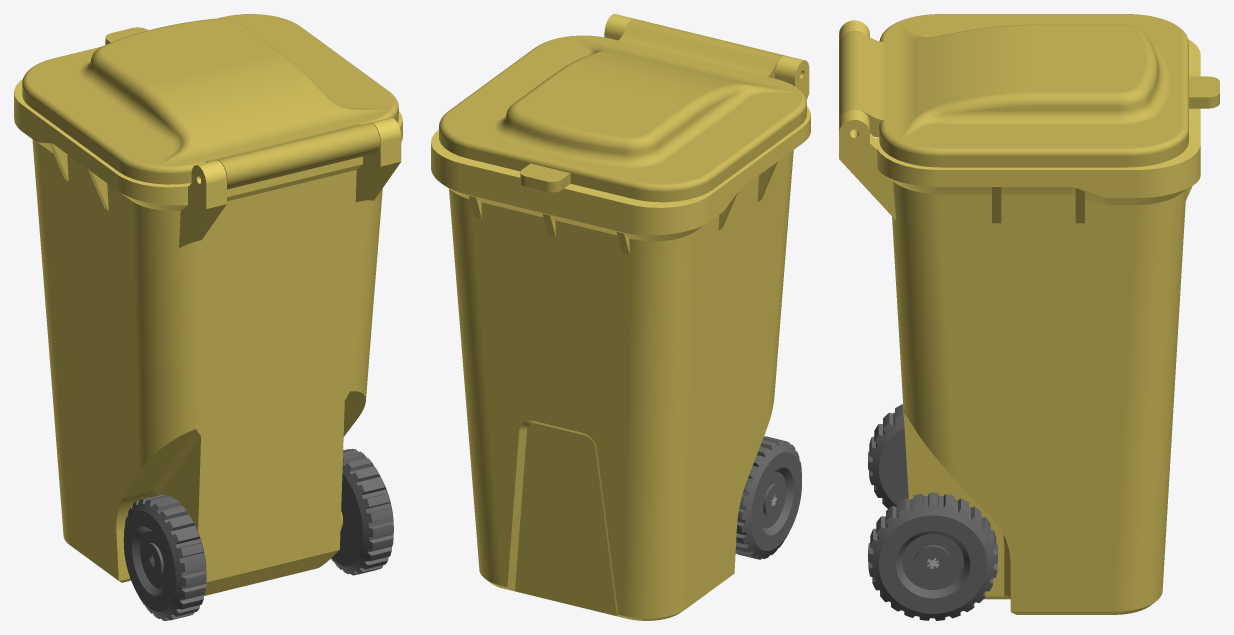
File: wheelie-bin.glb
3 views of the same model, side by side, from view 1: azimuth 30°, elevation 25°; view 2: azimuth 150°, elevation 25°; view 3: azimuth 270°, elevation 25° (orthographic). The views are drawn at different scales.
Visible parts, largest first — view 1: BIdone_inf-1, BIdone_sup-1, Ruota_bidone-3, Ruota_bidone-1; view 2: BIdone_inf-1, BIdone_sup-1, Ruota_bidone-3; view 3: BIdone_inf-1, BIdone_sup-1, Ruota_bidone-1, Ruota_bidone-3.
Boxes of the visible parts, <box> form: BIdone_inf-1: <box>14,79,402,595</box>; BIdone_sup-1: <box>22,14,398,189</box>; Ruota_bidone-3: <box>123,494,206,620</box>; Ruota_bidone-1: <box>331,448,393,575</box>; BIdone_inf-1: <box>431,14,810,620</box>; BIdone_sup-1: <box>439,19,806,202</box>; Ruota_bidone-3: <box>735,436,801,559</box>; BIdone_inf-1: <box>839,20,1200,614</box>; BIdone_sup-1: <box>839,14,1219,167</box>; Ruota_bidone-1: <box>868,492,997,620</box>; Ruota_bidone-3: <box>868,404,908,508</box>.
Bounding box in the file's own units: 0.054 × 0.0907 × 0.0615.
